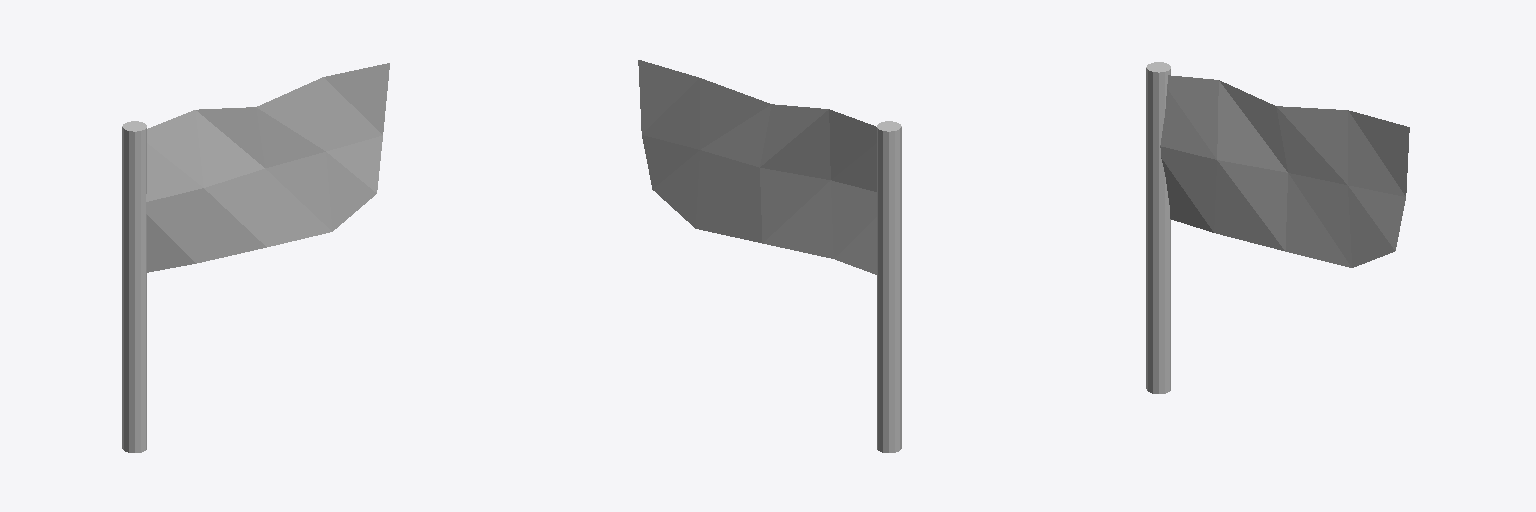
Rendered from WhiteFlag_Topping.obj.
The picture shows the model from 3 angles: view 1: azimuth 30°, elevation 25°; view 2: azimuth 150°, elevation 25°; view 3: azimuth 330°, elevation 25°; orthographic projection.
Parts seen in each view (by area): view 1: WhiteFlag; view 2: WhiteFlag; view 3: WhiteFlag.
Part boxes in pixels (x1,y1,x2,y2): WhiteFlag: (122,63,389,452); WhiteFlag: (638,60,901,452); WhiteFlag: (1146,62,1409,393).
Size of the model in its own units: 1.67 by 1.96 by 0.1377.